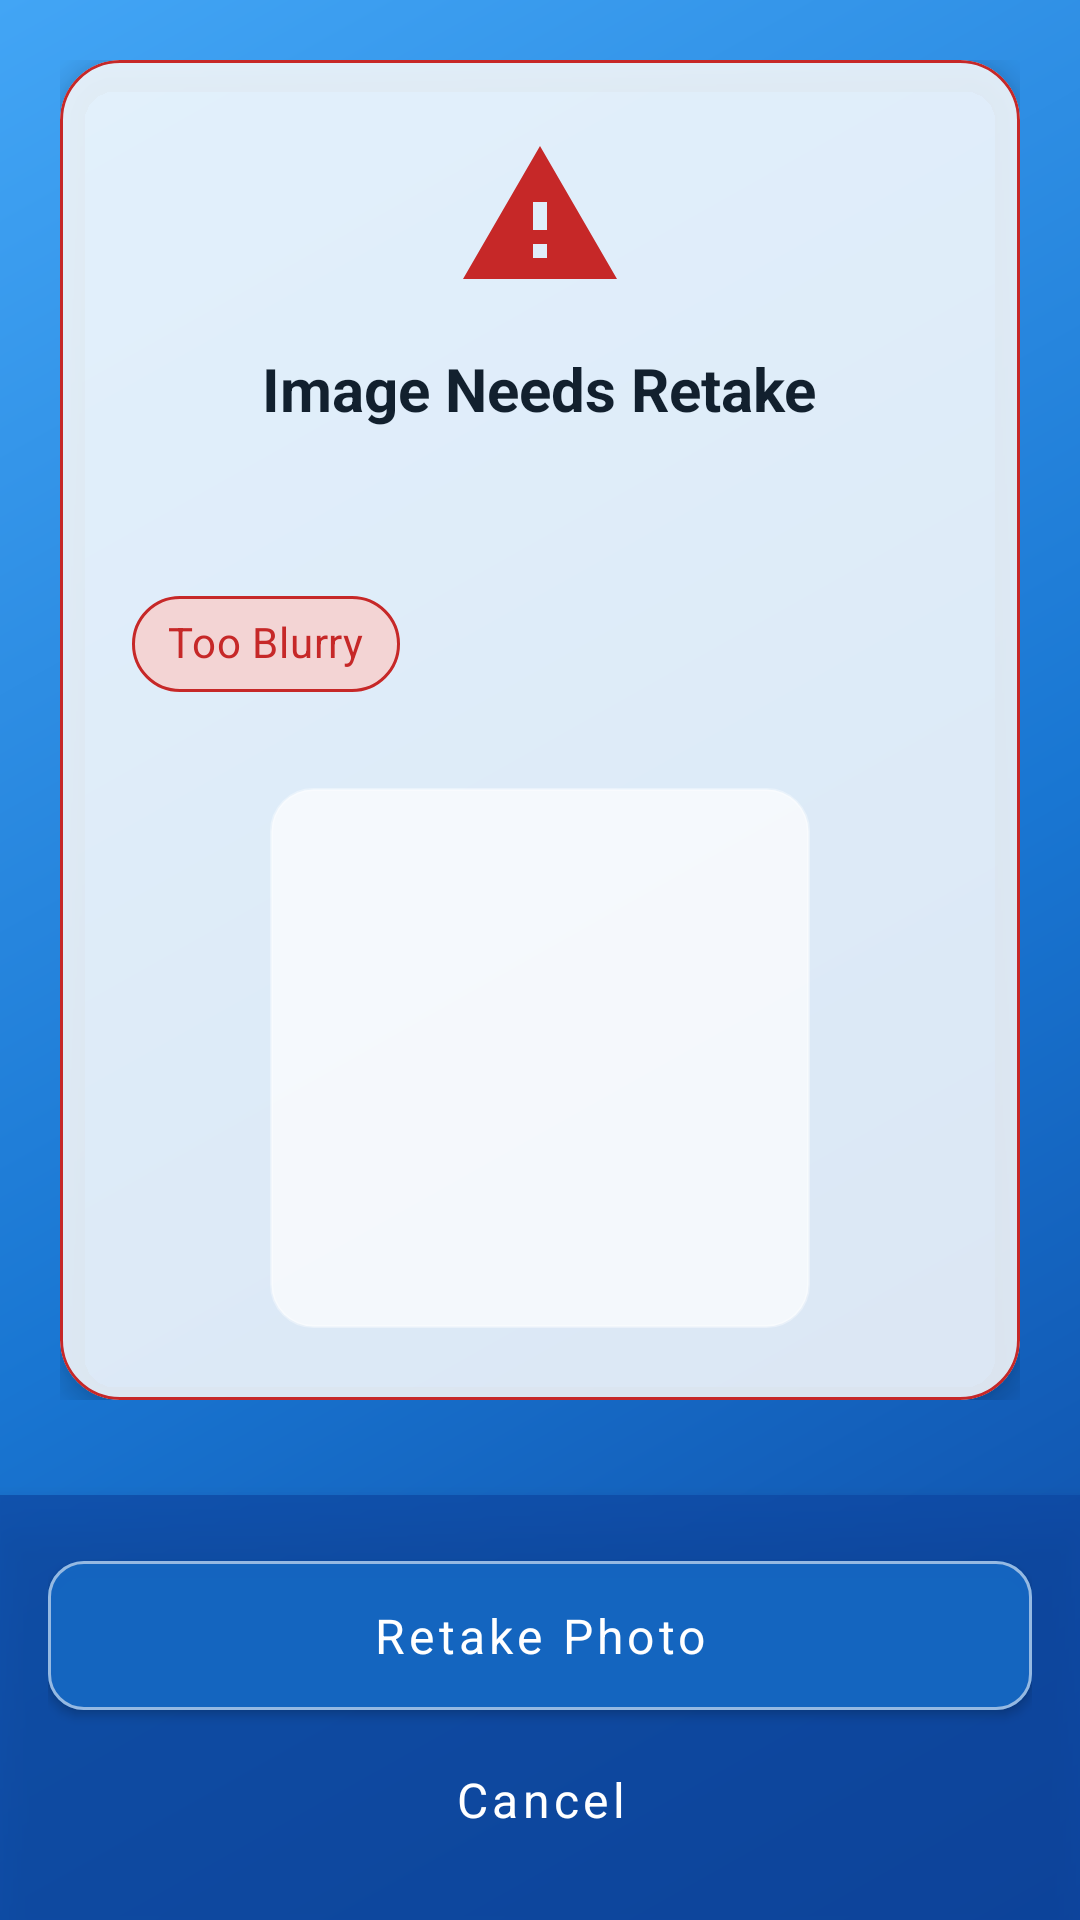

Locate icon controls on the screen. Image size 1080w x 1920h, boxes as (x1,y1,x2,y2).
warning: (463,146,617,279)
